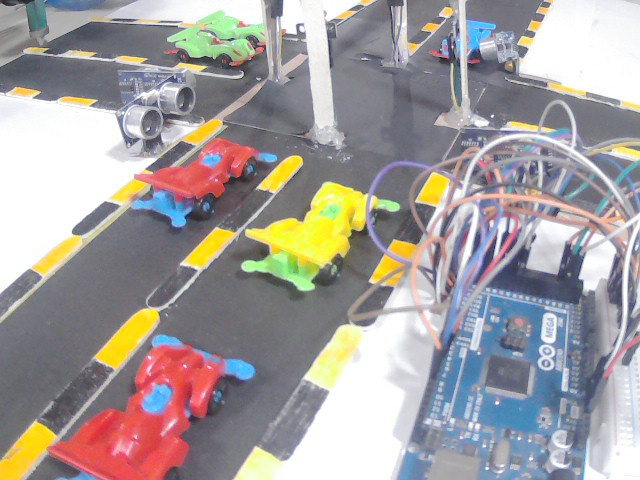car: (47, 331, 251, 480), (247, 180, 387, 298), (130, 137, 278, 228), (166, 39, 272, 67), (199, 15, 283, 46), (448, 15, 491, 69)
uno_breadboard: (451, 240, 621, 476), (110, 79, 192, 148), (117, 68, 190, 91), (484, 33, 519, 65)
